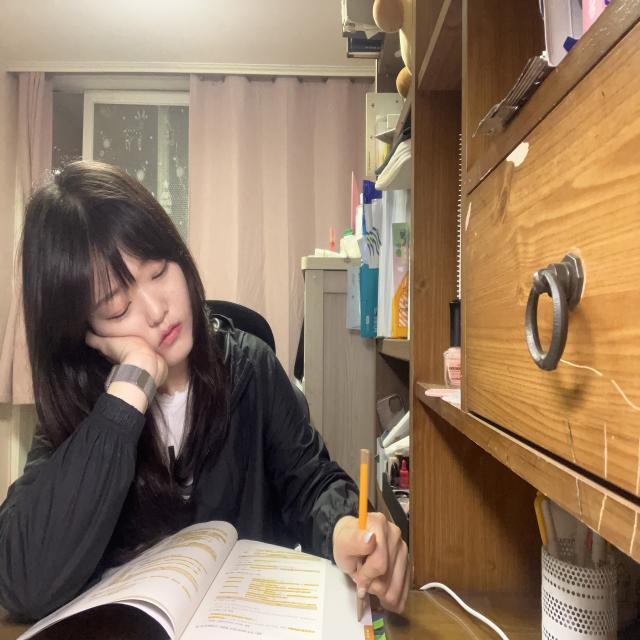studying-person: (1, 154, 417, 640)
